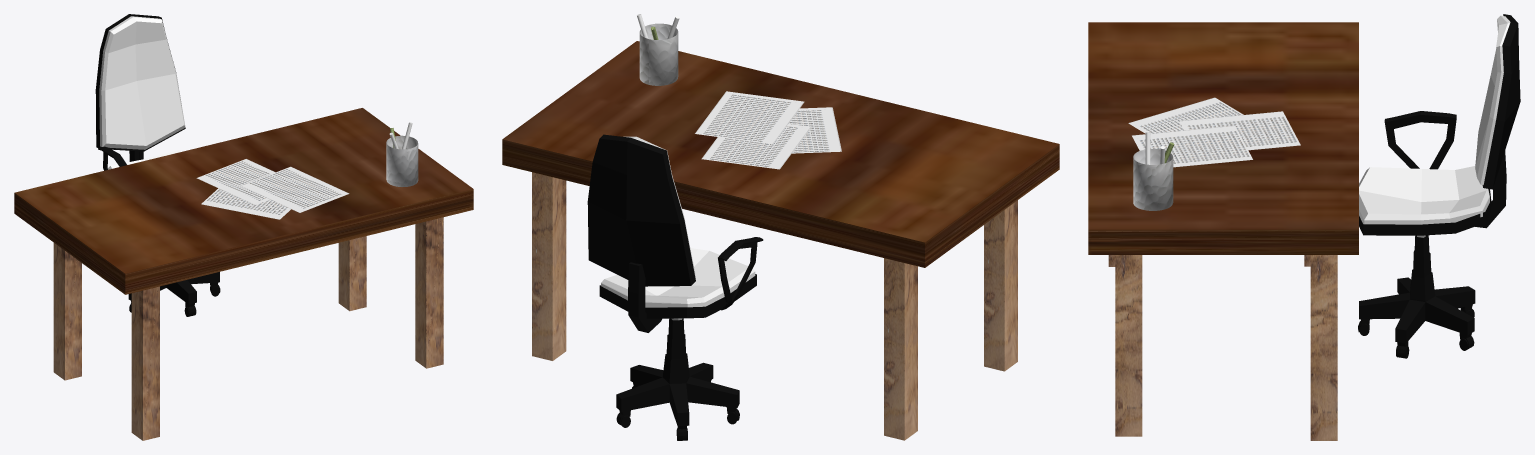
The model's file is Escritorio.glb.
3 views of the same model, side by side, from view 1: azimuth 30°, elevation 25°; view 2: azimuth 150°, elevation 25°; view 3: azimuth 270°, elevation 25° (orthographic). The views are drawn at different scales.
Visible parts, largest first — view 1: Cube.016, Cube.012, Cube.013, Cube.014, Cube.004, Plane.002, Cube.015, Plane, Cilindro, Plane.001, Cube.009, Cube; view 2: Cube.016, Cube.009, Cube.015, Cube.004, Cube, Cube.013, Plane.002, Cube.007, Plane, Cilindro, Plane.001, Cube.011 (+2 smaller); view 3: Cube.016, Cube.007, Cube, Cube.015, Cube.014, Plane.002, Cube.009, Plane, Cilindro, Cube.012, Plane.001, Cube.010 (+2 smaller).
Part boxes in pixels (left/top/right/bottom): Cube.016: left=14, top=108, right=473, bottom=294; Cube.012: left=99, top=16, right=185, bottom=149; Cube.013: left=131, top=286, right=159, bottom=440; Cube.014: left=415, top=217, right=443, bottom=368; Cube.004: left=53, top=243, right=81, bottom=380; Plane.002: left=241, top=166, right=349, bottom=212; Cube.015: left=338, top=236, right=366, bottom=311; Plane: left=196, top=159, right=275, bottom=205; Cilindro: left=386, top=135, right=418, bottom=186; Plane.001: left=201, top=188, right=290, bottom=219; Cube.009: left=95, top=14, right=185, bottom=151; Cube: left=128, top=272, right=219, bottom=304; Cube.016: left=502, top=41, right=1059, bottom=267; Cube.009: left=587, top=134, right=695, bottom=286; Cube.015: left=532, top=172, right=566, bottom=360; Cube.004: left=884, top=258, right=917, bottom=440; Cube: left=616, top=318, right=739, bottom=425; Cube.013: left=984, top=200, right=1017, bottom=371; Plane.002: left=695, top=91, right=804, bottom=144; Cube.007: left=601, top=248, right=755, bottom=307; Plane: left=701, top=124, right=810, bottom=169; Cilindro: left=639, top=23, right=678, bottom=85; Plane.001: left=788, top=107, right=841, bottom=153; Cube.011: left=599, top=274, right=756, bottom=318; Cube.016: left=1088, top=22, right=1358, bottom=254; Cube.007: left=1359, top=166, right=1489, bottom=224; Cube: left=1359, top=235, right=1475, bottom=343; Cube.015: left=1310, top=255, right=1337, bottom=440; Cube.014: left=1115, top=255, right=1142, bottom=436; Plane.002: left=1132, top=125, right=1252, bottom=167; Cube.009: left=1482, top=14, right=1520, bottom=189; Plane: left=1179, top=111, right=1300, bottom=150; Cilindro: left=1133, top=148, right=1173, bottom=210; Cube.012: left=1475, top=15, right=1510, bottom=184; Plane.001: left=1128, top=97, right=1243, bottom=133; Cube.010: left=1384, top=111, right=1456, bottom=169.
Size of the model in its own units: 10.9 by 8.05 by 9.61.
Materials: 15 (10 with a texture image).
